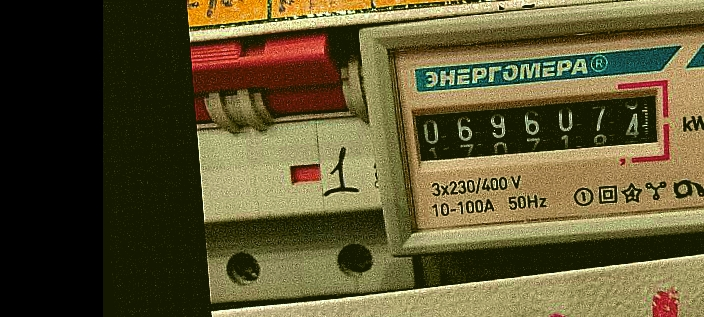0: (420, 117, 443, 146), (556, 103, 576, 133), (456, 114, 475, 141)
4: (623, 111, 642, 140)
6: (521, 106, 542, 137)
7: (589, 101, 609, 132)
9: (489, 110, 509, 140)
screen: (397, 75, 677, 181)
